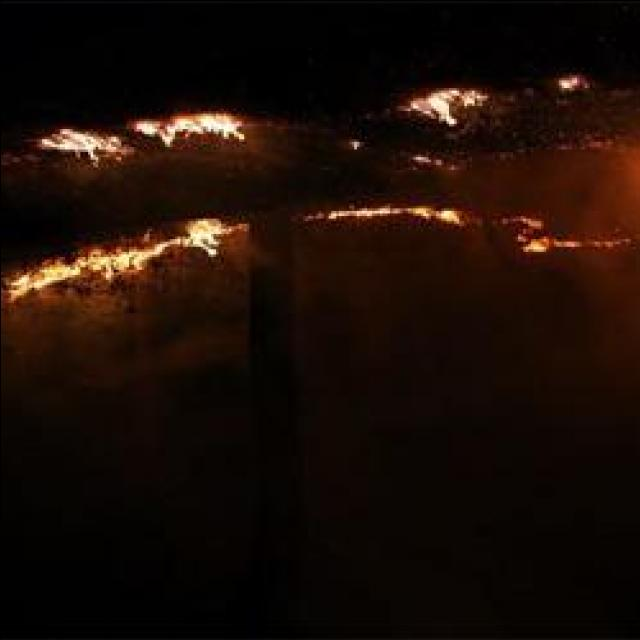fire: (2, 225, 232, 299), (43, 110, 260, 162), (409, 82, 488, 126), (330, 200, 464, 222), (518, 234, 636, 254)
smoke: (612, 146, 640, 242)
